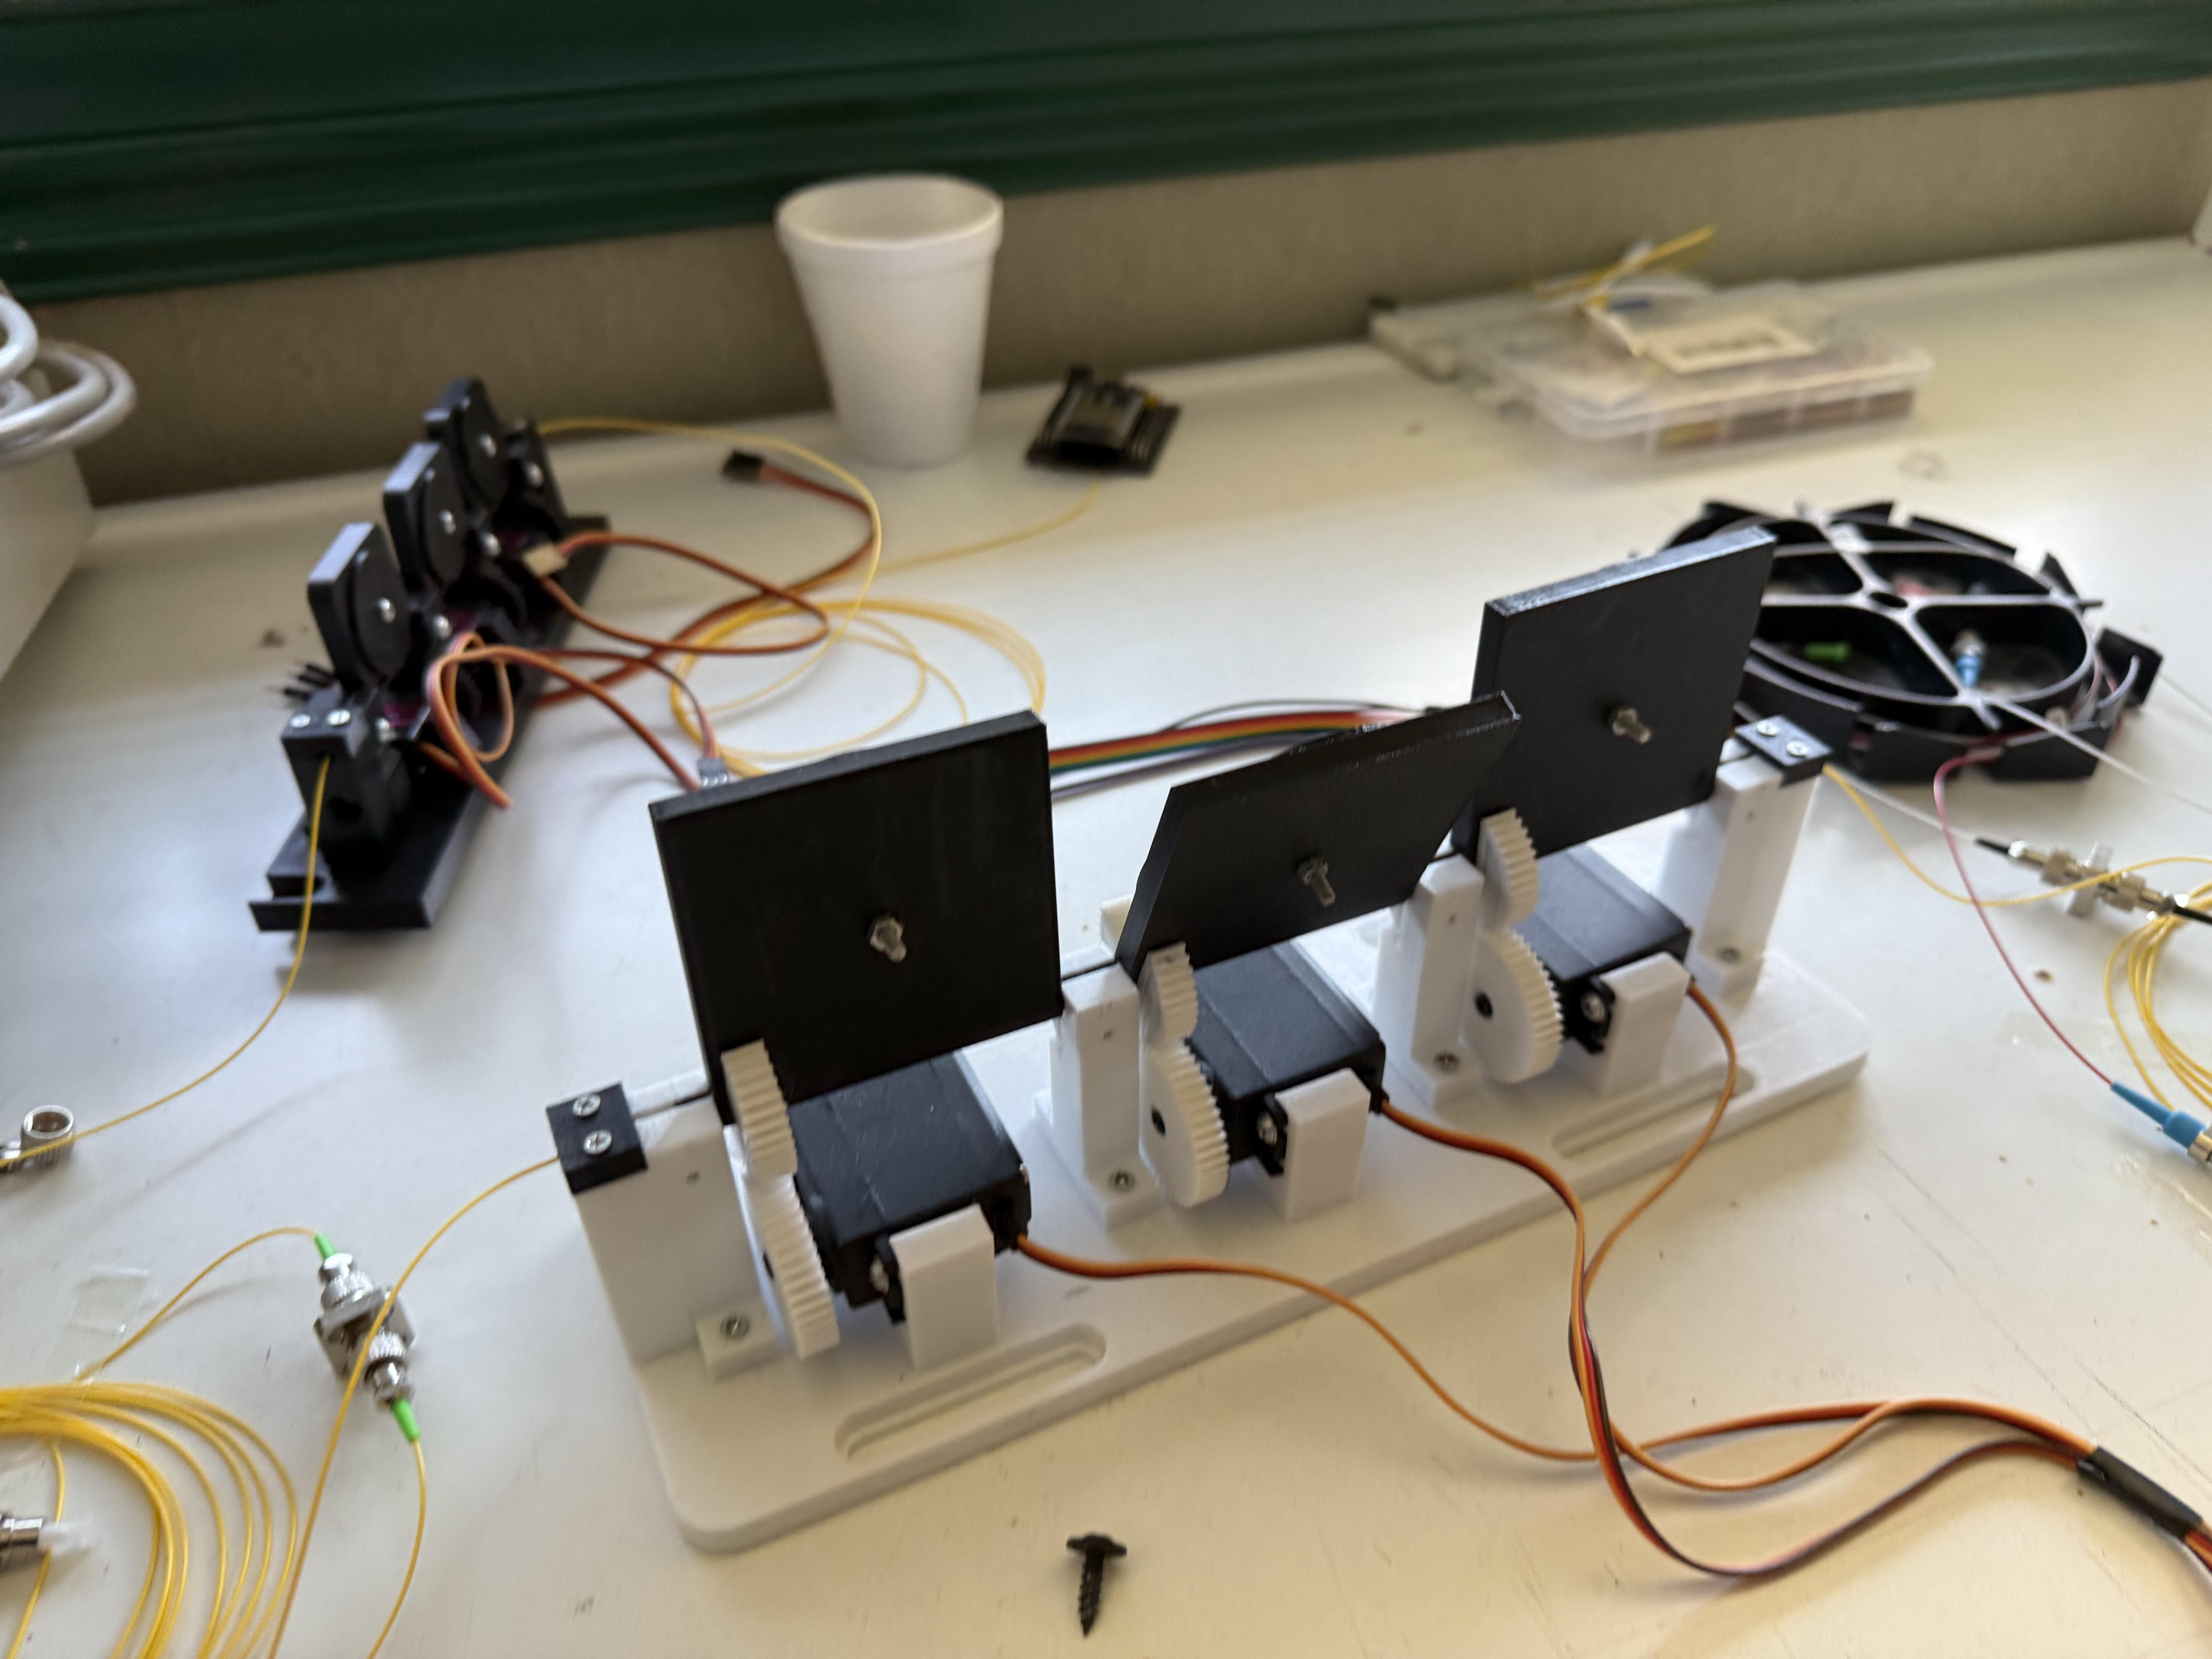fiber_cable: (7, 1302, 361, 1659)
paddle_polarization_controller: (437, 446, 1932, 1615), (158, 349, 639, 1014)
